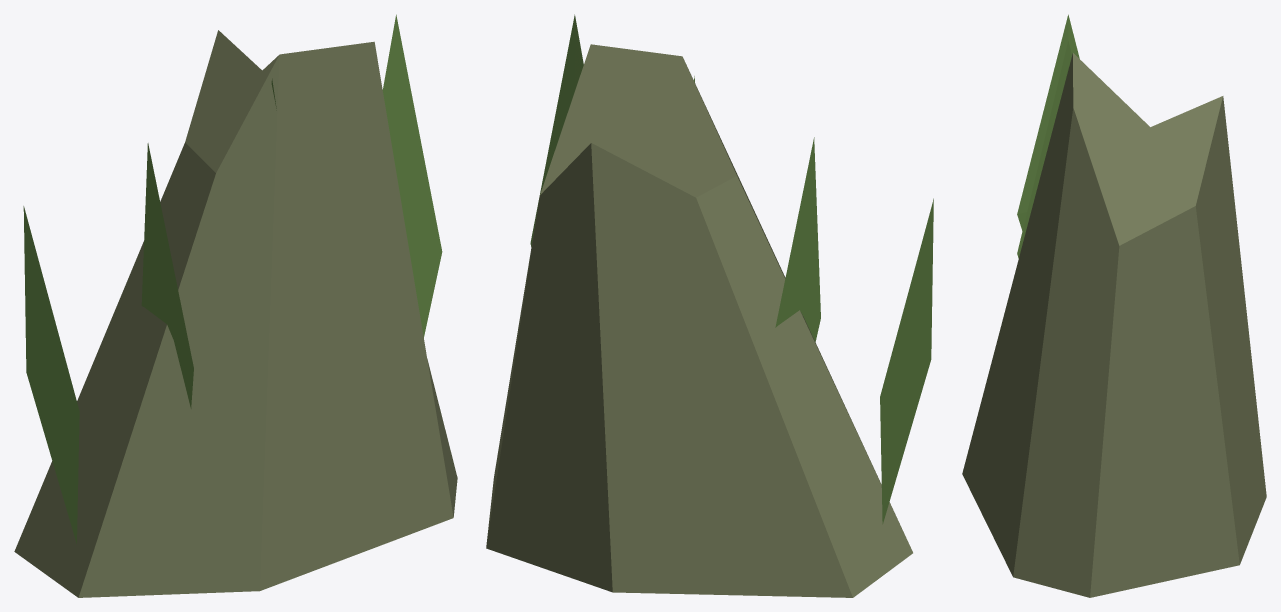
File: map-boundaries-v5__meadow_12.glb
3 views of the same model, side by side, from view 1: azimuth 30°, elevation 25°; view 2: azimuth 150°, elevation 25°; view 3: azimuth 270°, elevation 25° (orthographic). The views are drawn at different scales.
Parts seen in each view (by area): view 1: meadow_12; view 2: meadow_12; view 3: meadow_12.
Boxes of the visible parts, x1,y1,x2,y2 form: meadow_12: (14, 14, 457, 597); meadow_12: (486, 14, 933, 597); meadow_12: (962, 14, 1266, 597).
Bounding box in the file's own units: 1.25 × 1.32 × 0.7729.
